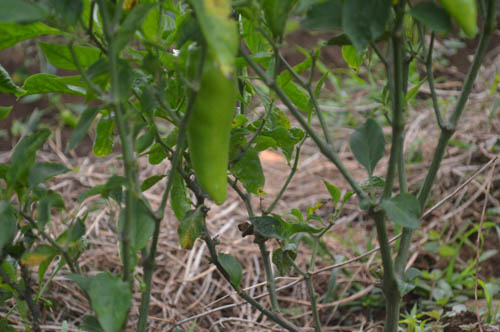ChiliPepper: (186, 47, 236, 211)
